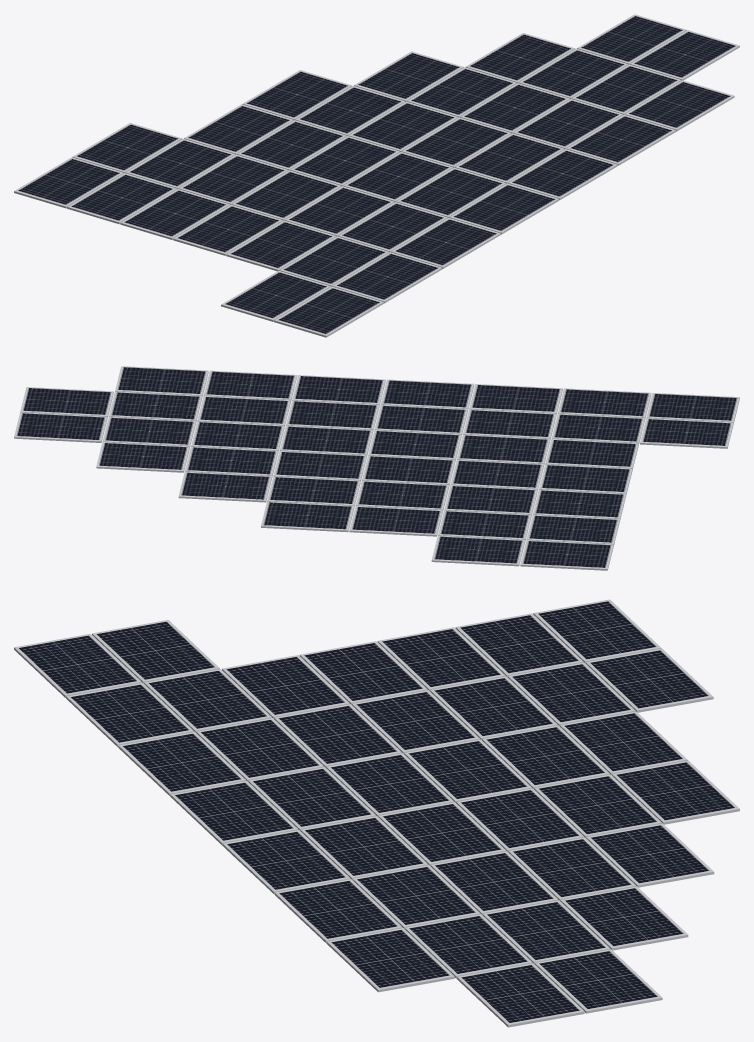
File: terrace_flat_ar.glb
The picture shows the model from 3 angles, top to bottom: view 1: azimuth 30°, elevation 25°; view 2: azimuth 150°, elevation 25°; view 3: azimuth 270°, elevation 25°; orthographic projection. The views are drawn at different scales.
Visible parts, largest first — view 1: RoofSolar; view 2: RoofSolar; view 3: RoofSolar.
Boxes of the visible parts, x1=… form: RoofSolar: x1=14, y1=14, x2=739, y2=337; RoofSolar: x1=14, y1=366, x2=739, y2=570; RoofSolar: x1=14, y1=599, x2=739, y2=1027.
Size of the model in its own units: 13.93 by 0.1676 by 9.83.
Materials: 2 (1 with a texture image).
